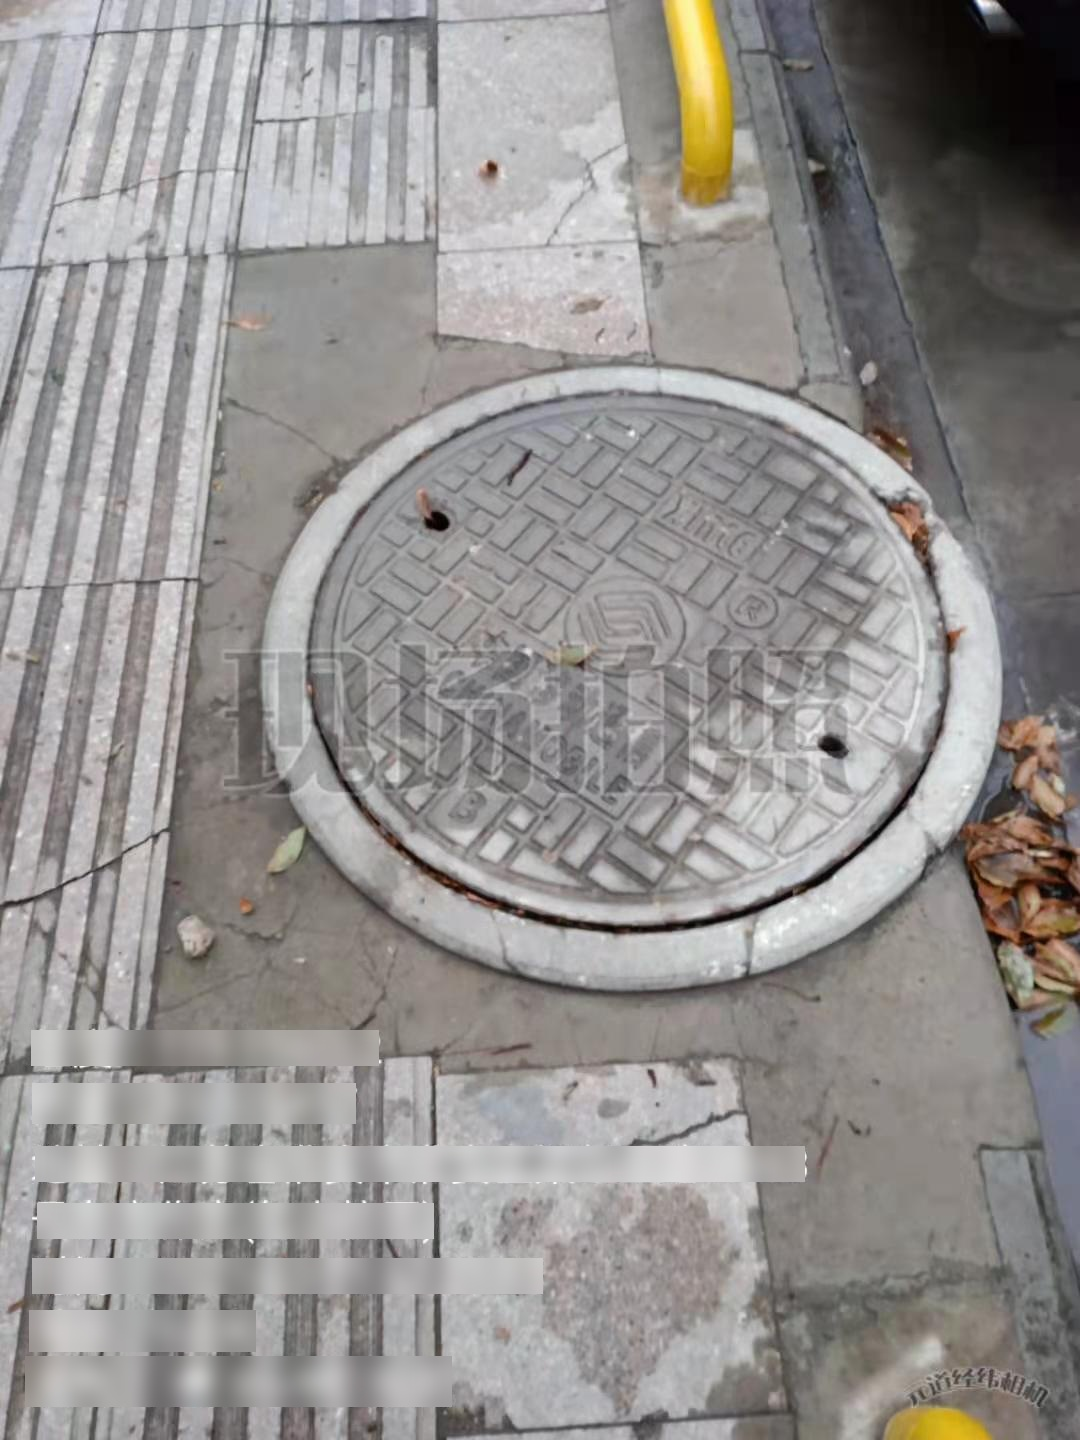good: (264, 362, 1003, 992)
